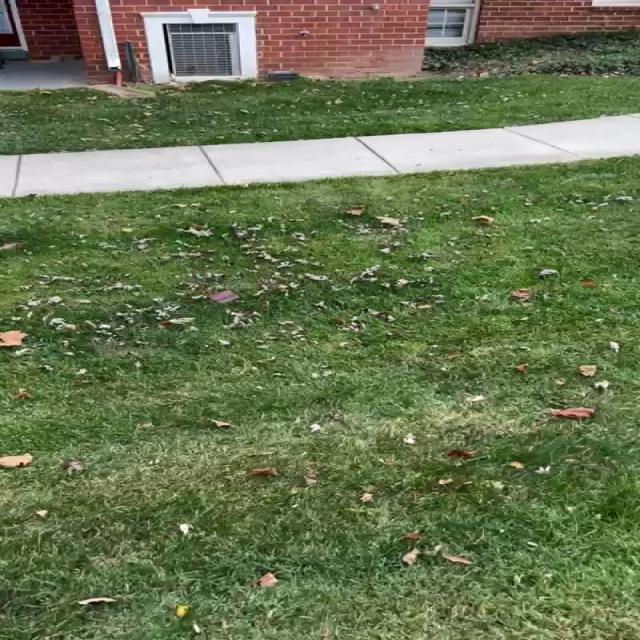wallet: (207, 290, 241, 303)
